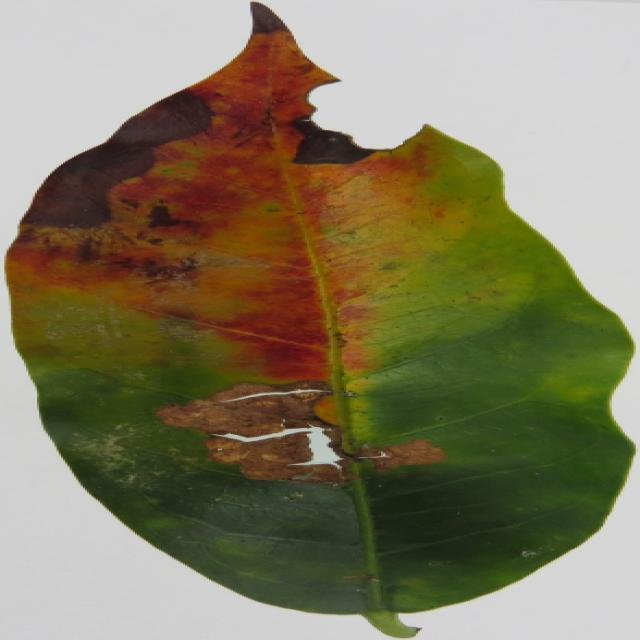DeficienciaNutricional-Fosforo: (6, 4, 631, 638)
